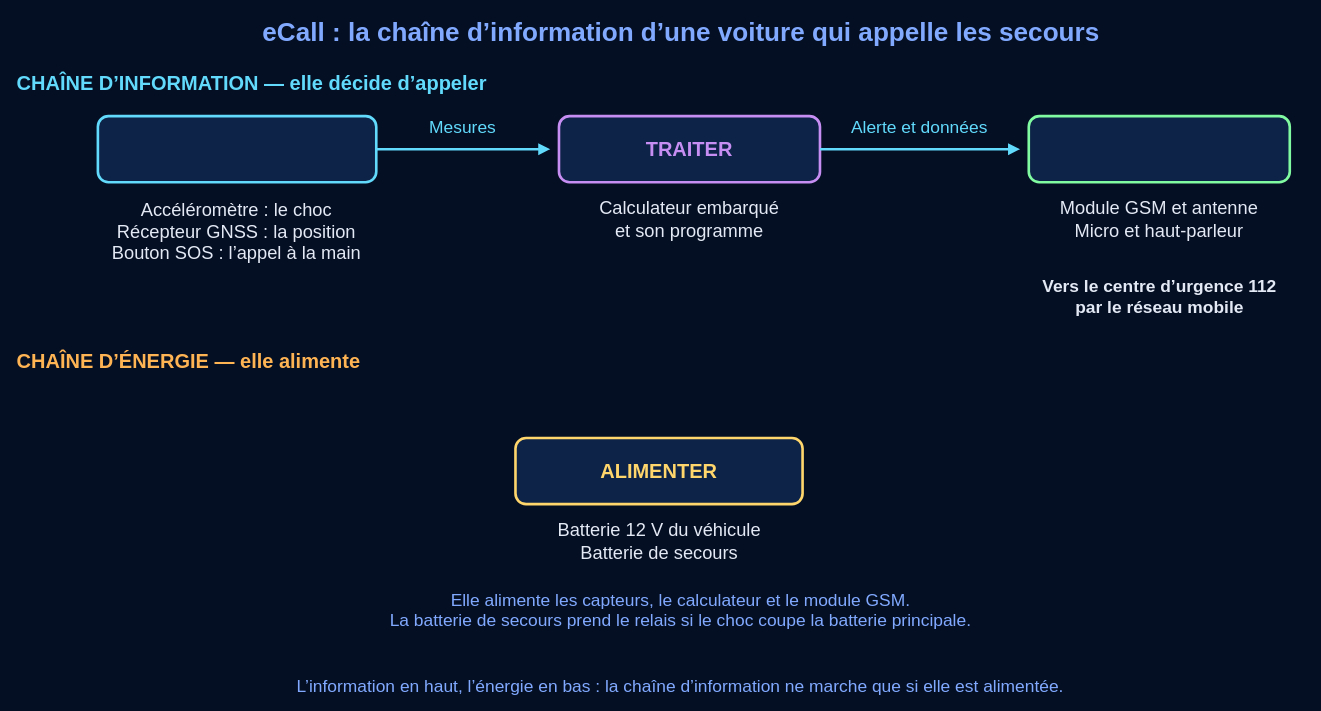
Some shapes in this 1321 by 711 pixel diagram are drawn without their labels. Here are the shapes that lost their labels. From the top down, the centre of each, then its label:
(x=236, y=148): ACQUÉRIR
(x=1159, y=148): COMMUNIQUER
